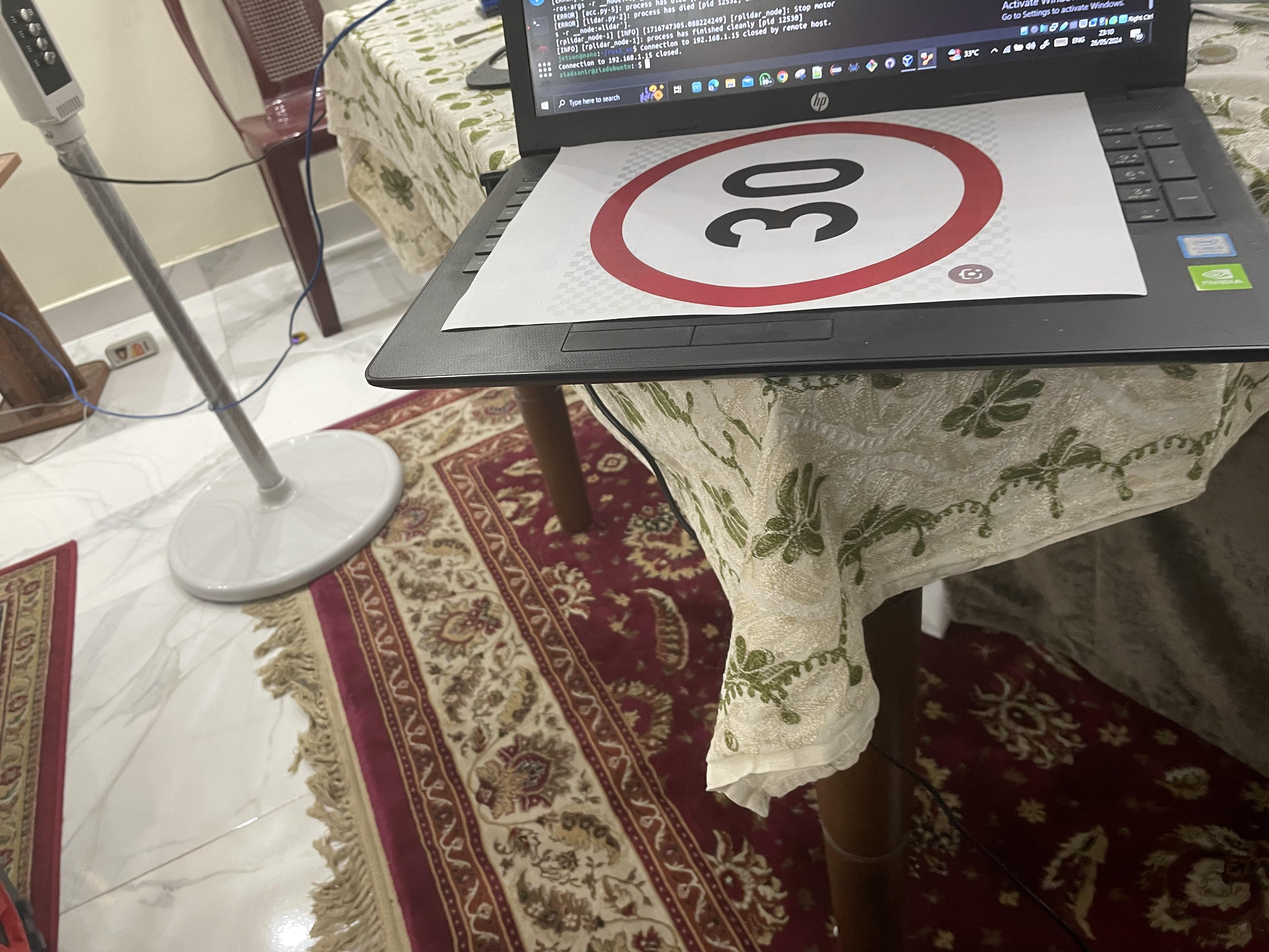30-speed: (584, 117, 1011, 308)
